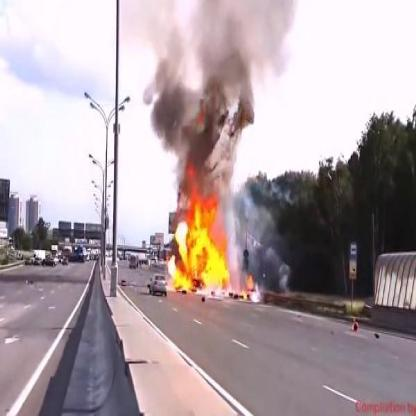fire: (165, 173, 255, 304)
